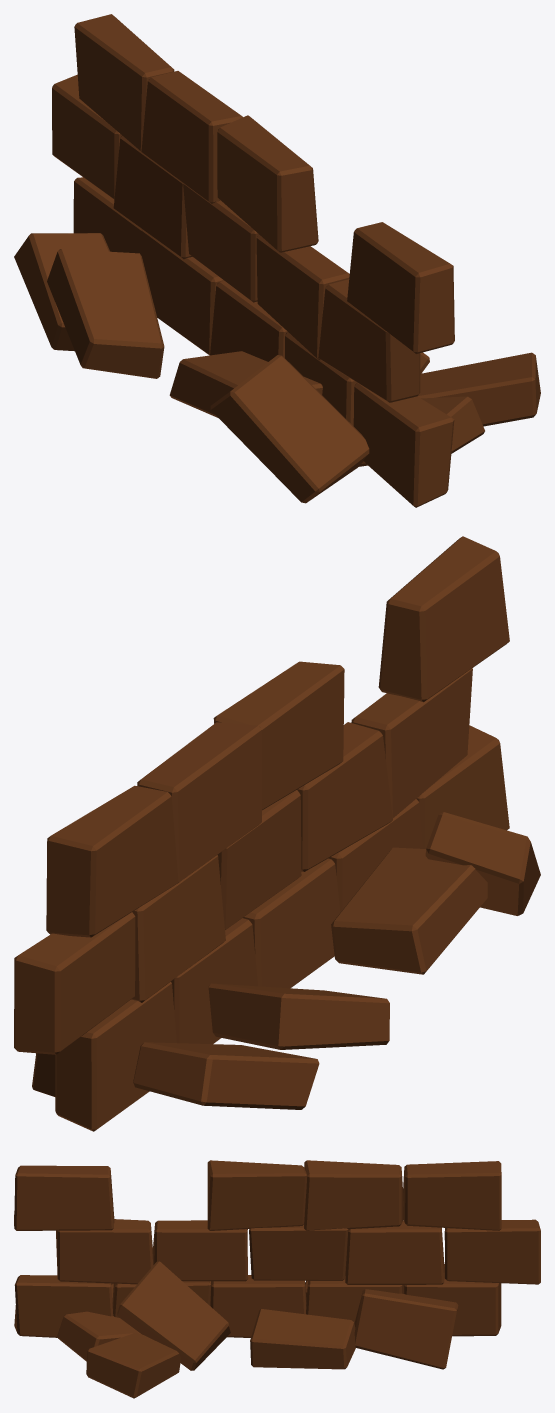
Rendered from BrickWall-RedBrick-Crumbled.fbx.
3 renders of one model, top to bottom at view 1: azimuth 30°, elevation 25°; view 2: azimuth 150°, elevation 25°; view 3: azimuth 270°, elevation 25°, orthographic. The views are drawn at different scales.
Parts seen in each view (by area): view 1: RedBrick Crumbled Wall; view 2: RedBrick Crumbled Wall; view 3: RedBrick Crumbled Wall.
Part boxes in pixels (x1=…): RedBrick Crumbled Wall: x1=14, y1=14, x2=540, y2=507; RedBrick Crumbled Wall: x1=14, y1=536, x2=540, y2=1131; RedBrick Crumbled Wall: x1=14, y1=1160, x2=540, y2=1398.
Bounding box in the file's own units: 443 × 341 × 872.
